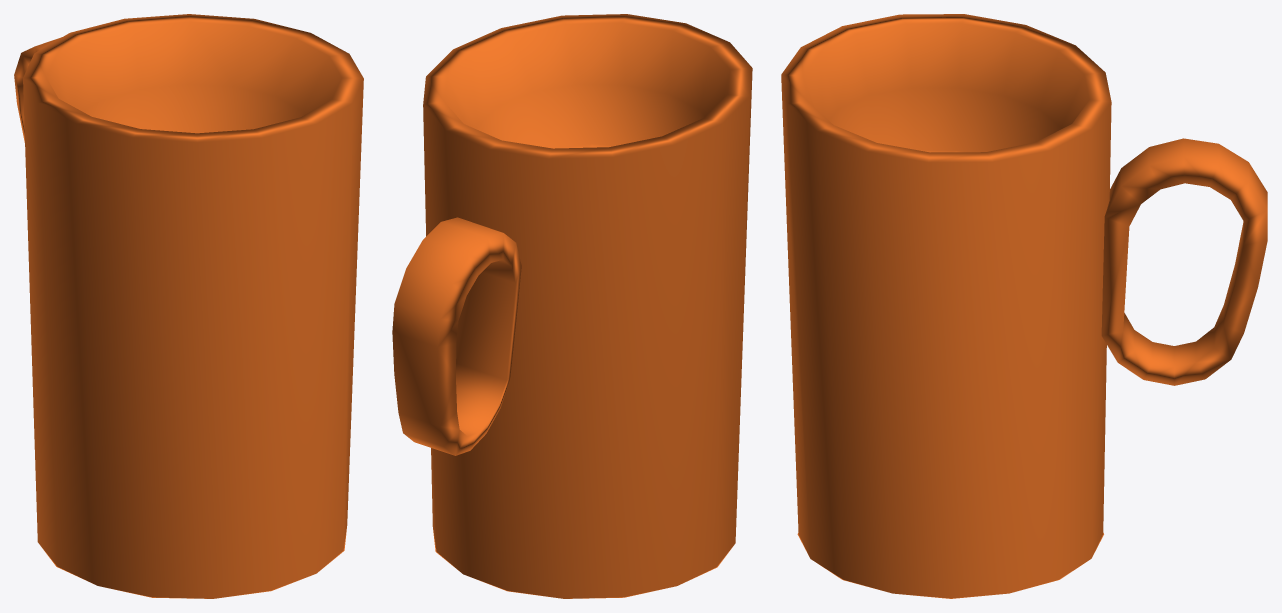
Rendered from Taza02.fbx.
3 views of the same model, side by side, from view 1: azimuth 30°, elevation 25°; view 2: azimuth 150°, elevation 25°; view 3: azimuth 270°, elevation 25° (orthographic). The views are drawn at different scales.
Visible parts, largest first — view 1: Taza02; view 2: Taza02; view 3: Taza02.
Part boxes in pixels (box(x1,y1,x2,y2)): Taza02: box(14, 14, 363, 598); Taza02: box(392, 14, 752, 598); Taza02: box(781, 14, 1267, 598).
Size of the model in its own units: 13.33 by 20.16 by 19.64.
